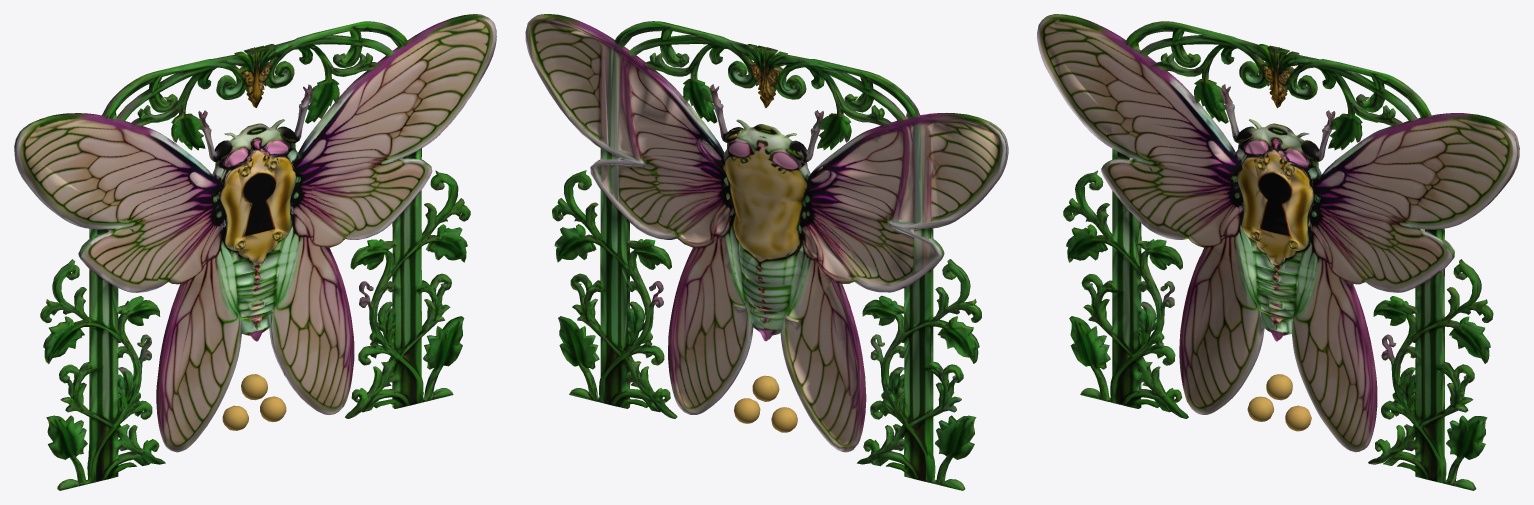
File: cicada_web2.glb
3 renders of one model, left to right at view 1: azimuth 30°, elevation 25°; view 2: azimuth 150°, elevation 25°; view 3: azimuth 330°, elevation 25°, orthographic.
Parts seen in each view (by area): view 1: material; view 2: material; view 3: material.
Boxes of the visible parts, left/top/right/bottom form: material: left=14, top=14, right=496, bottom=490; material: left=525, top=14, right=1008, bottom=490; material: left=1037, top=14, right=1519, bottom=490.
Size of the model in its own units: 1.01 by 0.79 by 0.049.
1 material, 1 textured.
